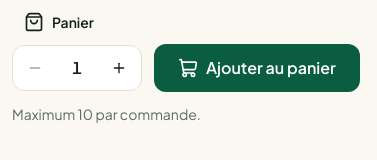
Scenario: <AddToCart /> › ajoute la quantité choisie et met à jour le compteur du panier
This screenshot has width=377, height=160.
Expected: the link with aria-label "Panier vide" is shown, [24,12,94,32]
What coordinates should you click on to do the following:
click the button named "Augmenter la quantité"
I would click on:
 (119, 68)
Its box is [97,46,141,90].
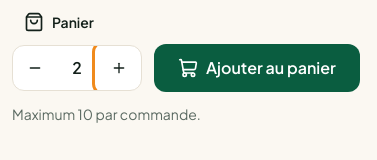
What coordinates should you click on to do the following:
click the button "Ajouter au panier"
I would click on:
 (257, 68)
Its box is [154,44,360,92].
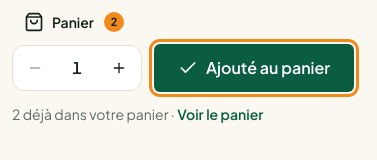
Expected: the link with aria-label "Panier, 2 articles" is shown, [24,12,124,32]
Expected: the button "Ajouté au panier" is shown, [154,44,354,92]
Expected: the text "2 déjà dans votre panier · Voir le panier" is shown, [12,105,263,123]
